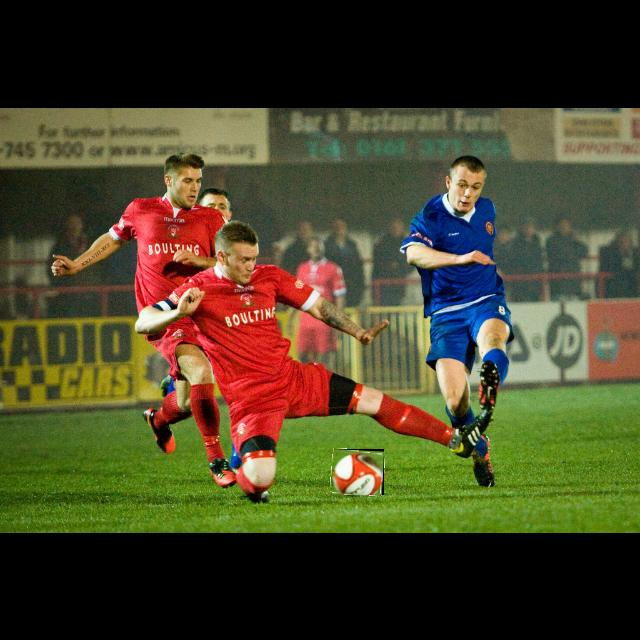Football: (332, 449, 384, 495)
